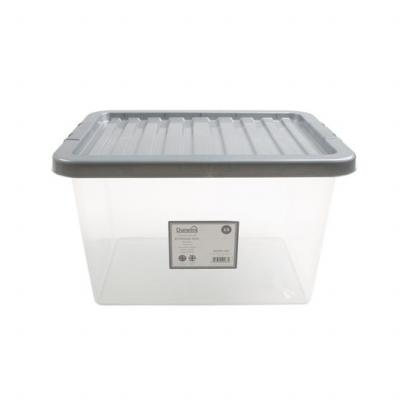plastic_box: (45, 72, 365, 324)
